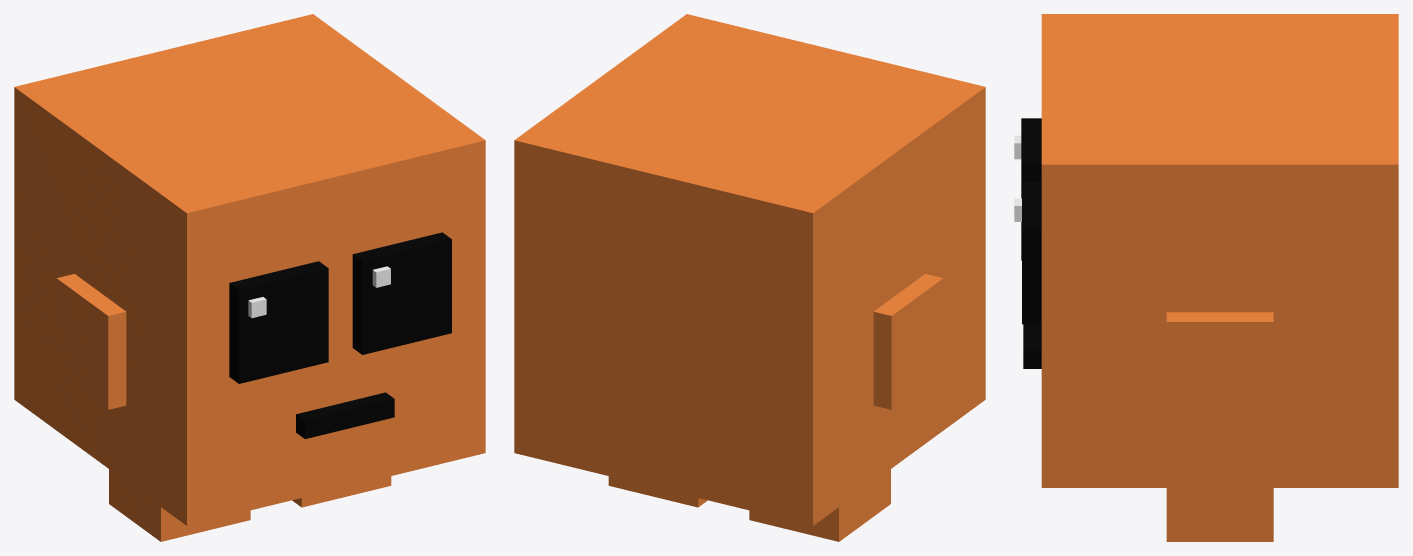
File: Square_creature.fbx
3 views of the same model, side by side, from view 1: azimuth 30°, elevation 25°; view 2: azimuth 150°, elevation 25°; view 3: azimuth 270°, elevation 25° (orthographic). The views are drawn at different scales.
Parts seen in each view (by area): view 1: Cube.001; view 2: Cube.001; view 3: Cube.001.
Part boxes in pixels (<box>): Cube.001: <box>14,14,485,541</box>; Cube.001: <box>514,14,985,541</box>; Cube.001: <box>1014,14,1398,541</box>.
Bounding box in the file's own units: 112 × 122 × 108.
